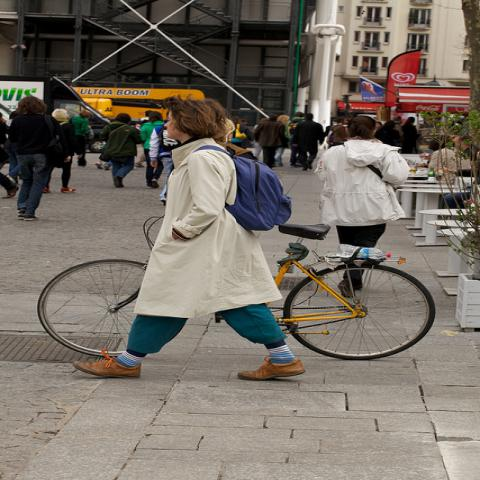truck: (0, 75, 113, 154)
